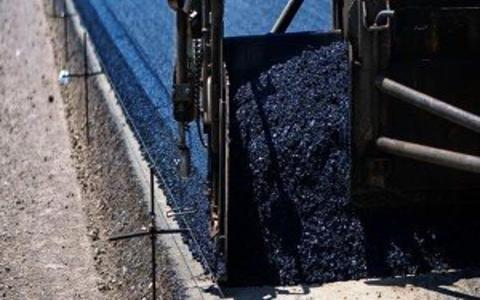Proper road: (91, 3, 168, 151)
